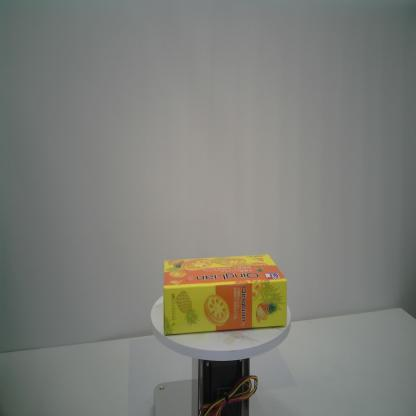Dessert: (162, 252, 290, 337)
